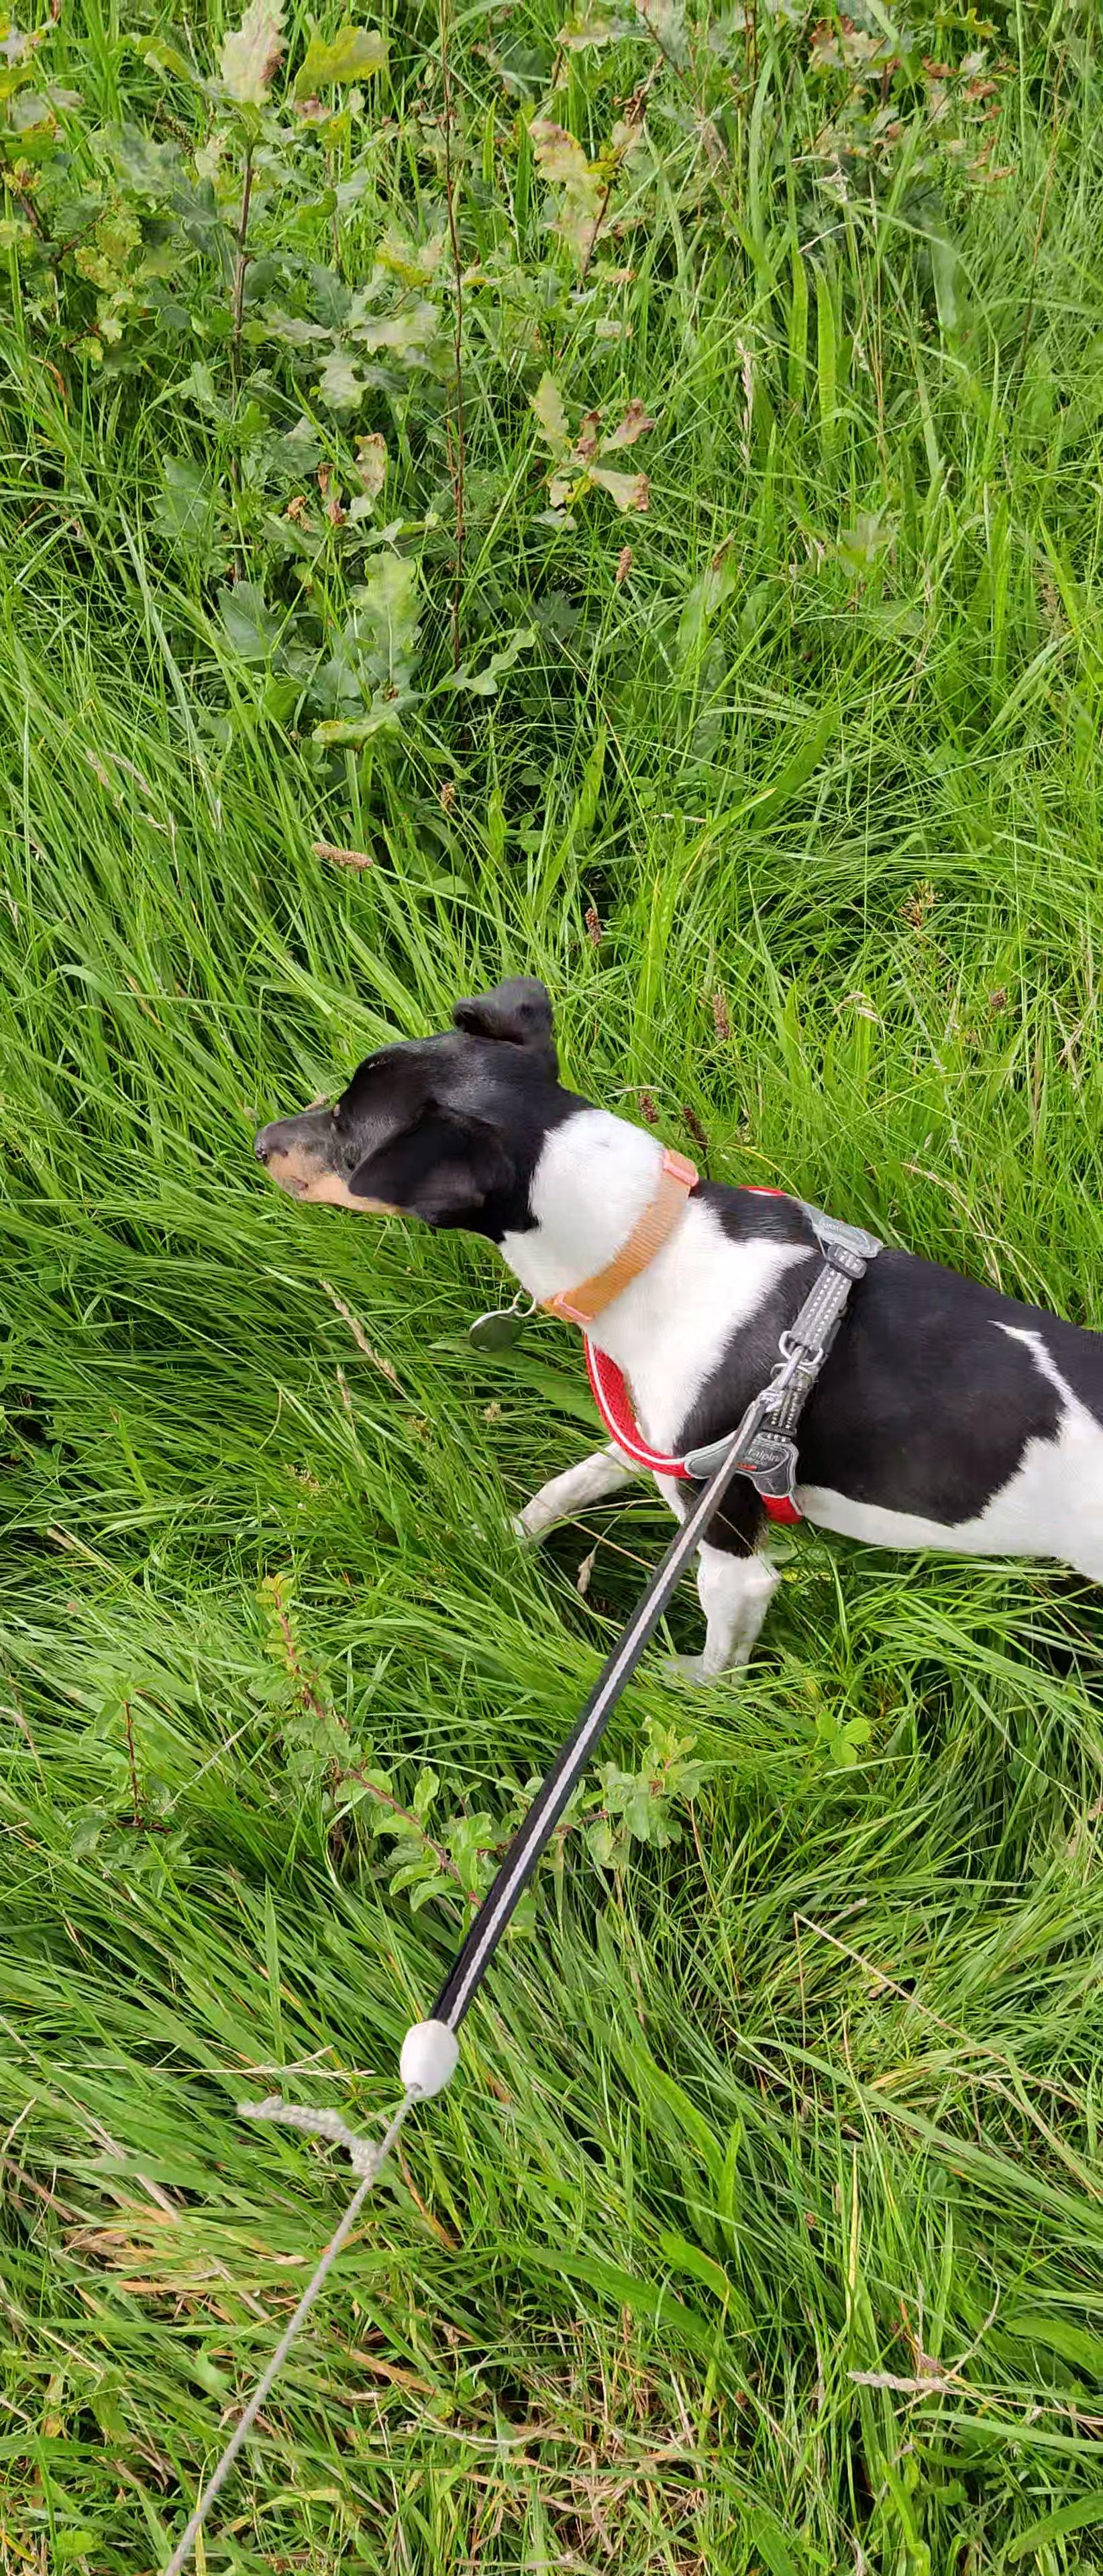Dog: (215, 950, 1103, 1705)
